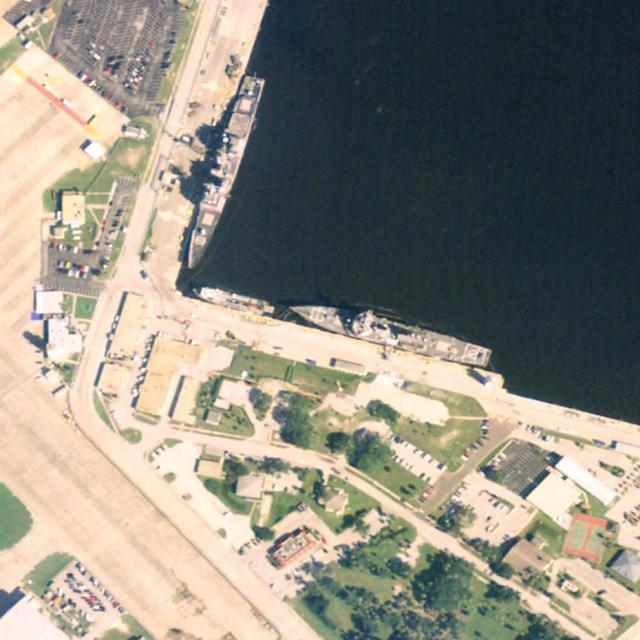Cruiser: (182, 73, 266, 273)
Destroyer: (286, 296, 493, 369)
Other Ship: (189, 281, 277, 319)
